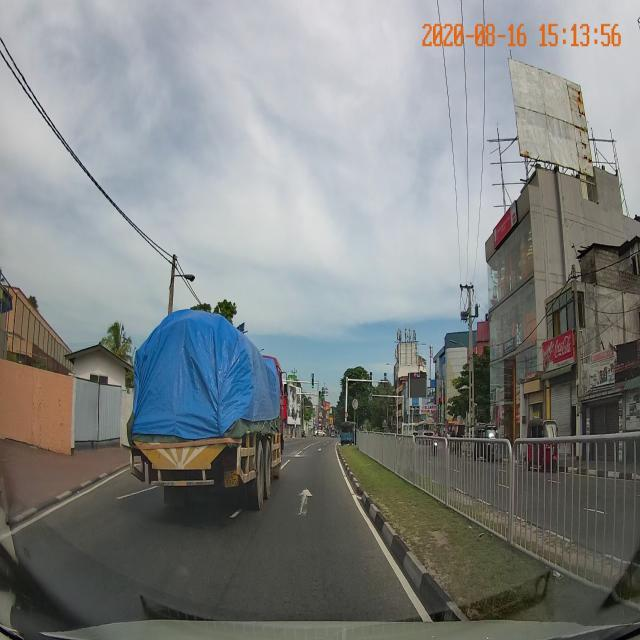forward: (244, 483, 389, 544)
